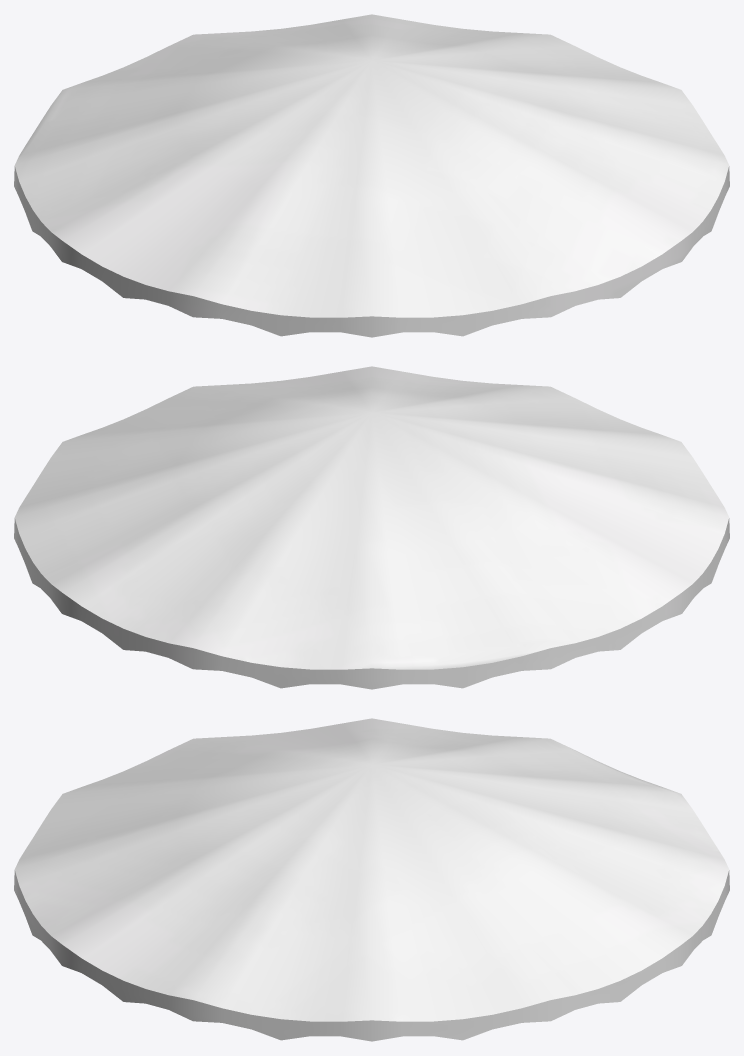
The model's file is parasol_round_canopy.glb.
3 renders of one model, top to bottom at view 1: azimuth 30°, elevation 25°; view 2: azimuth 150°, elevation 25°; view 3: azimuth 270°, elevation 25°, orthographic.
Parts seen in each view (by area): view 1: parasol_round_canopy; view 2: parasol_round_canopy; view 3: parasol_round_canopy.
Boxes of the visible parts, x1=… form: parasol_round_canopy: x1=14, y1=14, x2=729, y2=337; parasol_round_canopy: x1=14, y1=366, x2=729, y2=689; parasol_round_canopy: x1=14, y1=718, x2=729, y2=1041.
Size of the model in its own units: 3.41 by 0.6954 by 3.41.
Materials: 1 (1 with a texture image).
